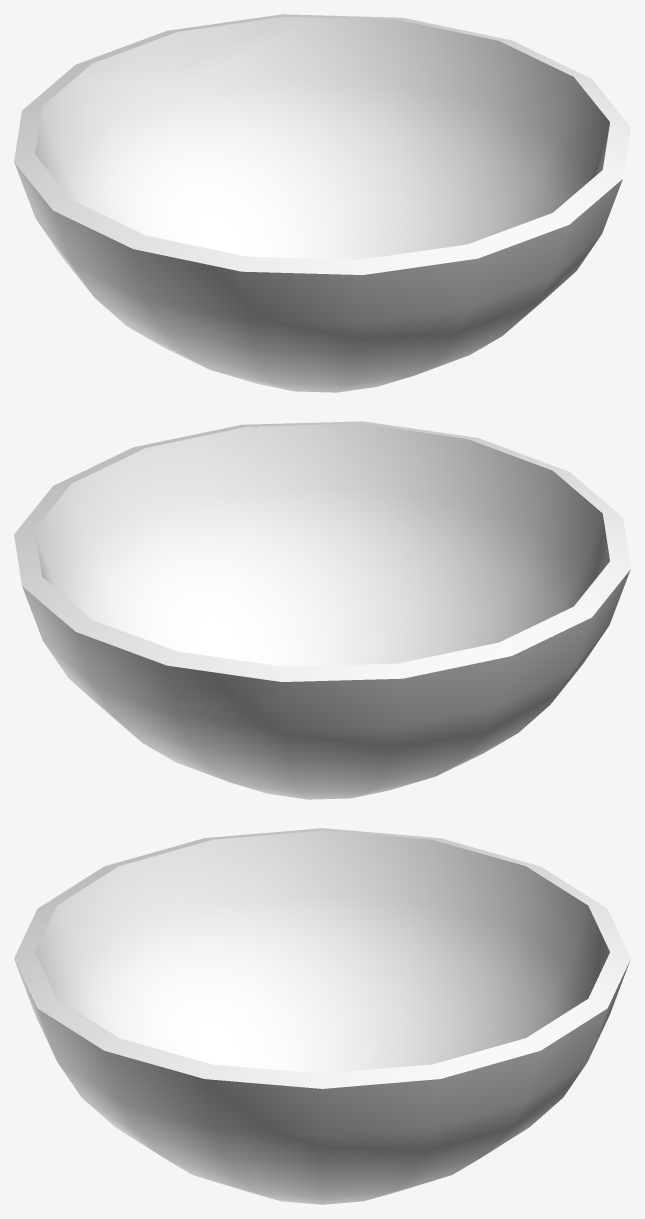
File: FruitBowl.fbx
3 renders of one model, top to bottom at view 1: azimuth 30°, elevation 25°; view 2: azimuth 150°, elevation 25°; view 3: azimuth 270°, elevation 25°, orthographic.
Parts seen in each view (by area): view 1: FruitBowl; view 2: FruitBowl; view 3: FruitBowl.
Part boxes in pixels (left/top/right/bottom): FruitBowl: left=14, top=14, right=630, bottom=392; FruitBowl: left=14, top=421, right=630, bottom=799; FruitBowl: left=14, top=828, right=630, bottom=1204.
Size of the model in its own units: 66.42 by 25.19 by 66.42.
1 material, 1 textured.
